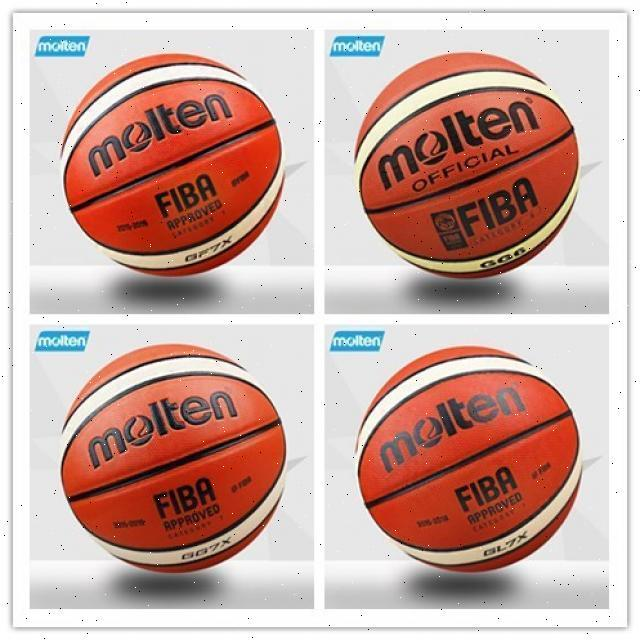ball: (356, 346, 582, 572), (62, 344, 286, 572), (59, 51, 284, 274), (356, 53, 578, 279)
